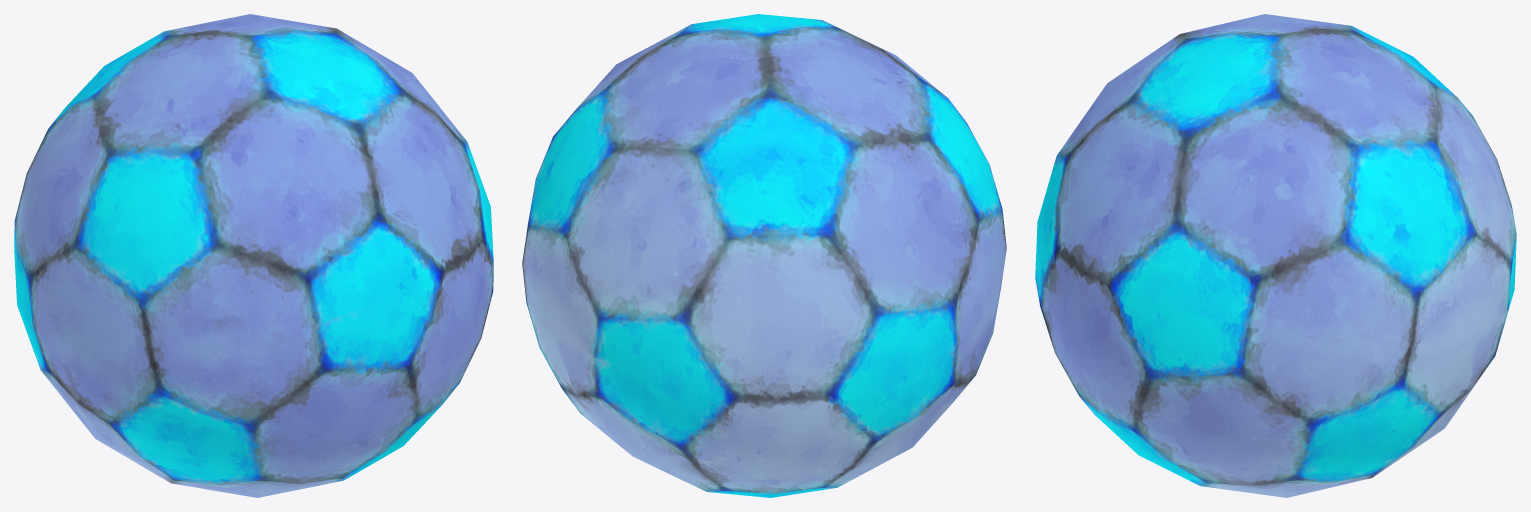
Rendered from Ball.glb.
3 views of the same model, side by side, from view 1: azimuth 30°, elevation 25°; view 2: azimuth 150°, elevation 25°; view 3: azimuth 270°, elevation 25° (orthographic).
Parts seen in each view (by area): view 1: Ball; view 2: Ball; view 3: Ball.
Part boxes in pixels (x1=…): Ball: x1=14, y1=14, x2=493, y2=497; Ball: x1=522, y1=14, x2=1006, y2=497; Ball: x1=1035, y1=14, x2=1516, y2=497.
Bounding box in the file's own units: 3.23 × 3.27 × 3.25.
Materials: 1 (1 with a texture image).
